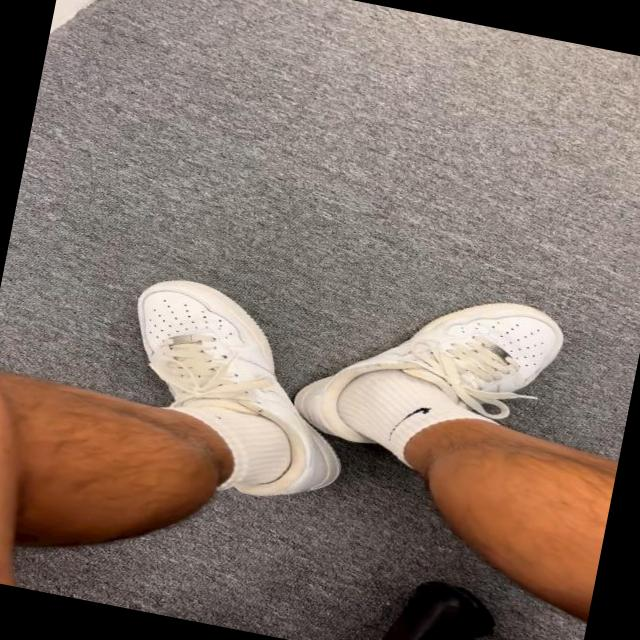nike_original_airforce: (285, 260, 581, 504), (94, 268, 372, 518)
